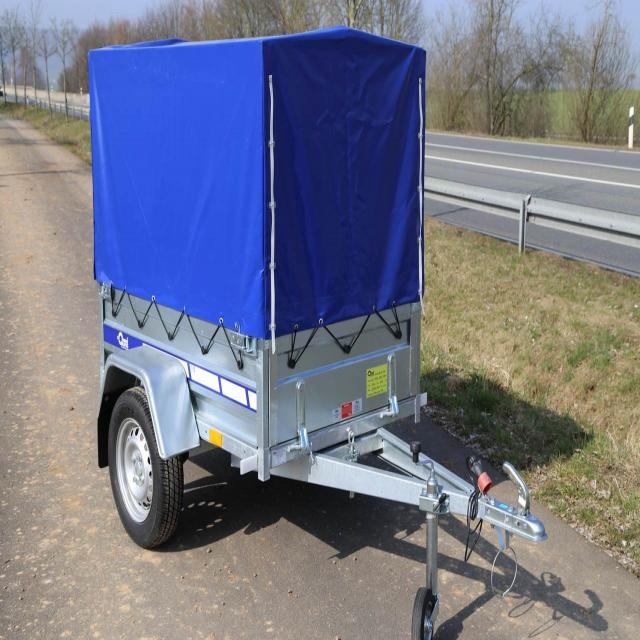trailer: (87, 25, 427, 476)
